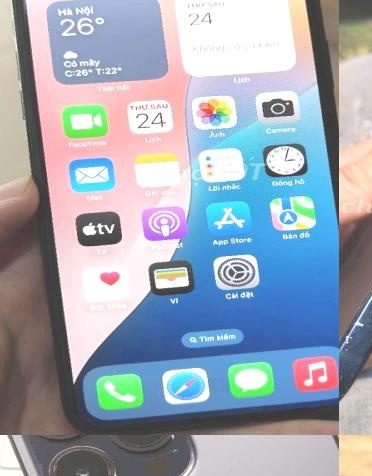scratch: (339, 306, 372, 398)
